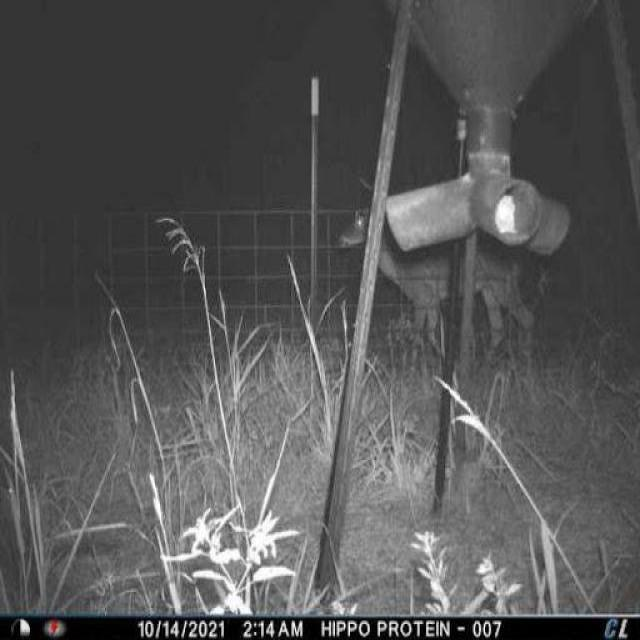deer: (332, 165, 546, 368)
